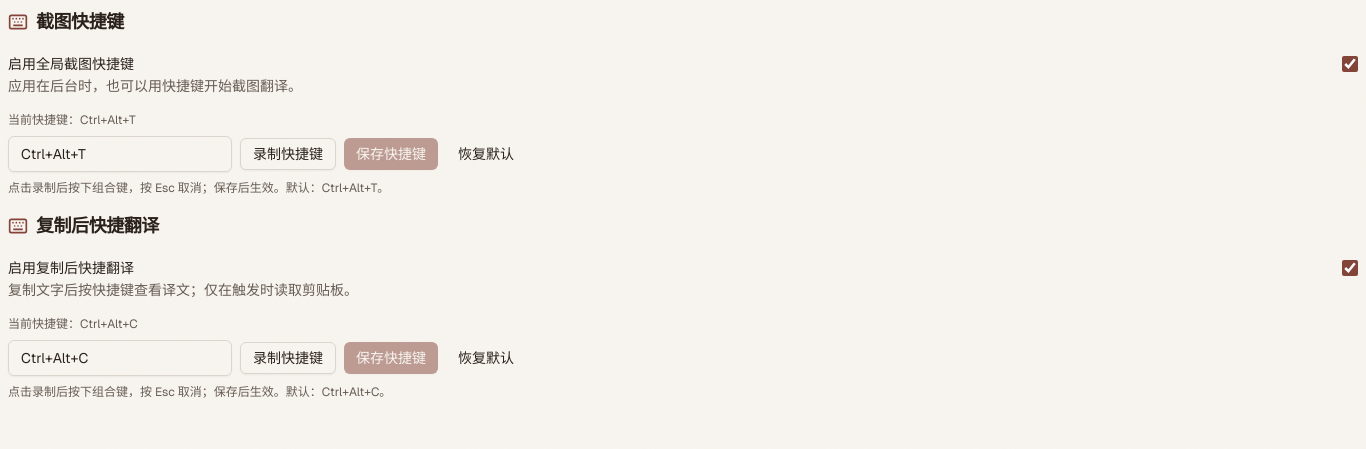
it: screenshot shortcut settings › configures clipboard independently when both controls are rendered
expect the field named "复制后快捷翻译组合" holds "Ctrl+Alt+C": met, box x1=8 y1=340 x2=232 y2=376
Click the switch labelled "启用复制后快捷翻译": (1350, 268) x1=1342 y1=260 x2=1358 y2=276
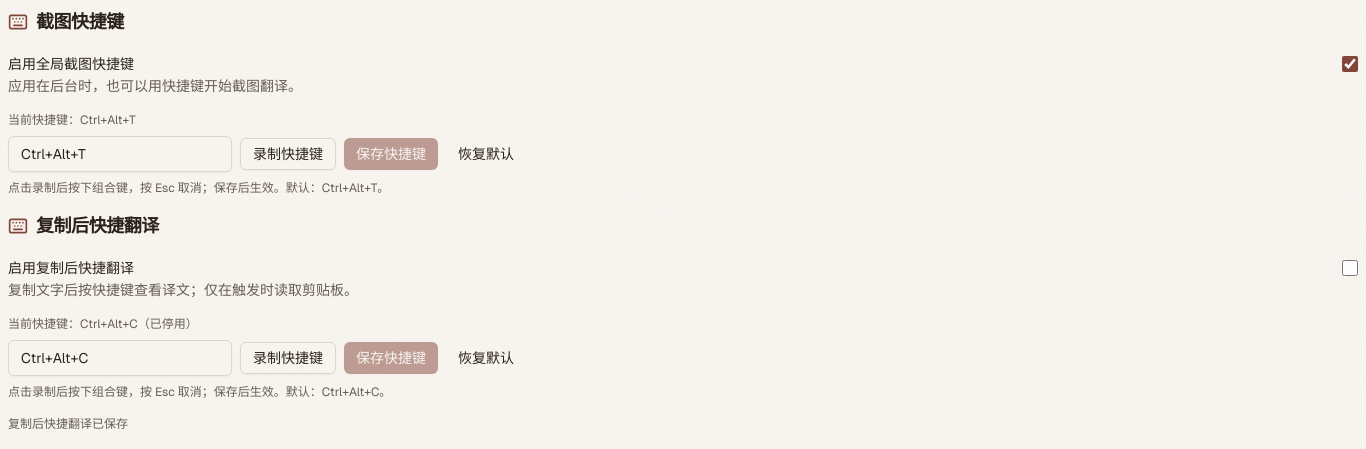
expect the switch labelled "启用全局截图快捷键" is checked: met, box x1=1342 y1=56 x2=1358 y2=72
expect the message reads "复制后快捷翻译已保存": met, box x1=8 y1=416 x2=128 y2=432
